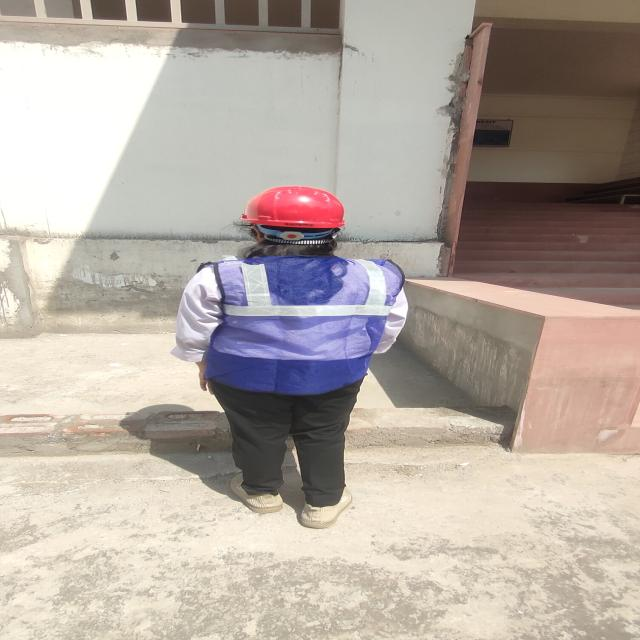safe: (176, 187, 407, 528)
